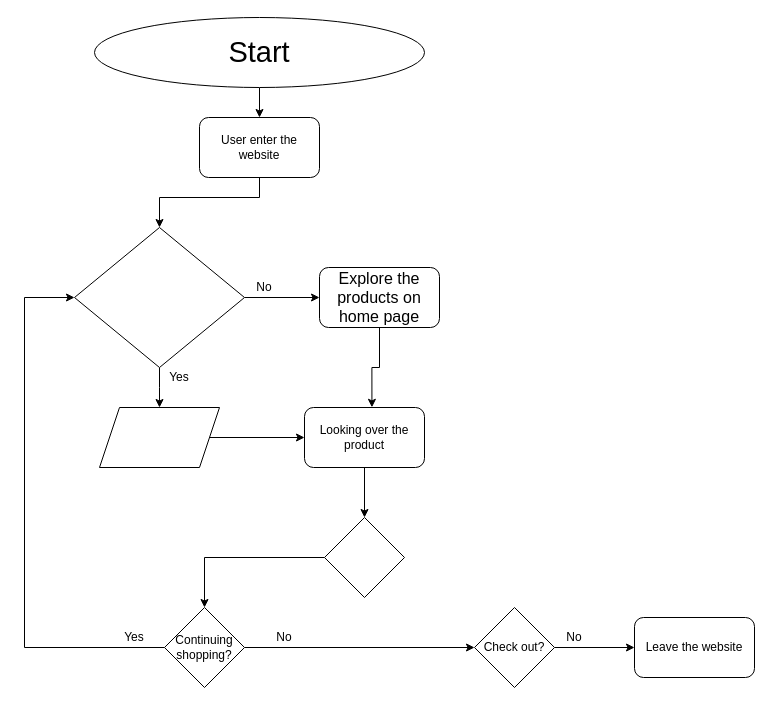
The diagram is 772 pixels wide and 705 high, and some of its shapes have lost their labels. Each missing label, with the centre of its shape:
"Product's website" goes at (x=159, y=437).
"Searching Products?" goes at (x=159, y=297).
"viewing specific product" goes at (x=364, y=557).
